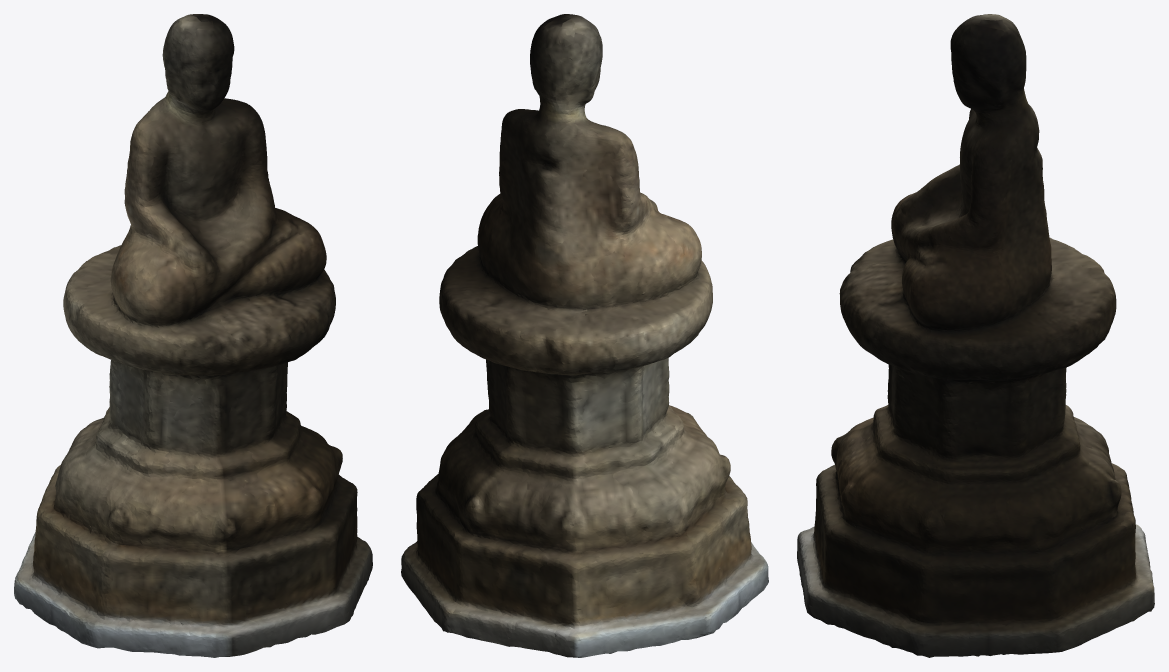
The model's file is stone_statue.glb.
The picture shows the model from 3 angles, left to right: view 1: azimuth 30°, elevation 25°; view 2: azimuth 150°, elevation 25°; view 3: azimuth 270°, elevation 25°; orthographic projection.
Parts seen in each view (by area): view 1: texturedMesh; view 2: texturedMesh; view 3: texturedMesh.
Boxes of the visible parts, box(x1,y1,x2,y2) form: texturedMesh: box(14, 14, 372, 657); texturedMesh: box(401, 14, 768, 657); texturedMesh: box(797, 14, 1154, 657).
Size of the model in its own units: 0.5627 by 0.9939 by 0.5646.
1 material, 1 textured.
